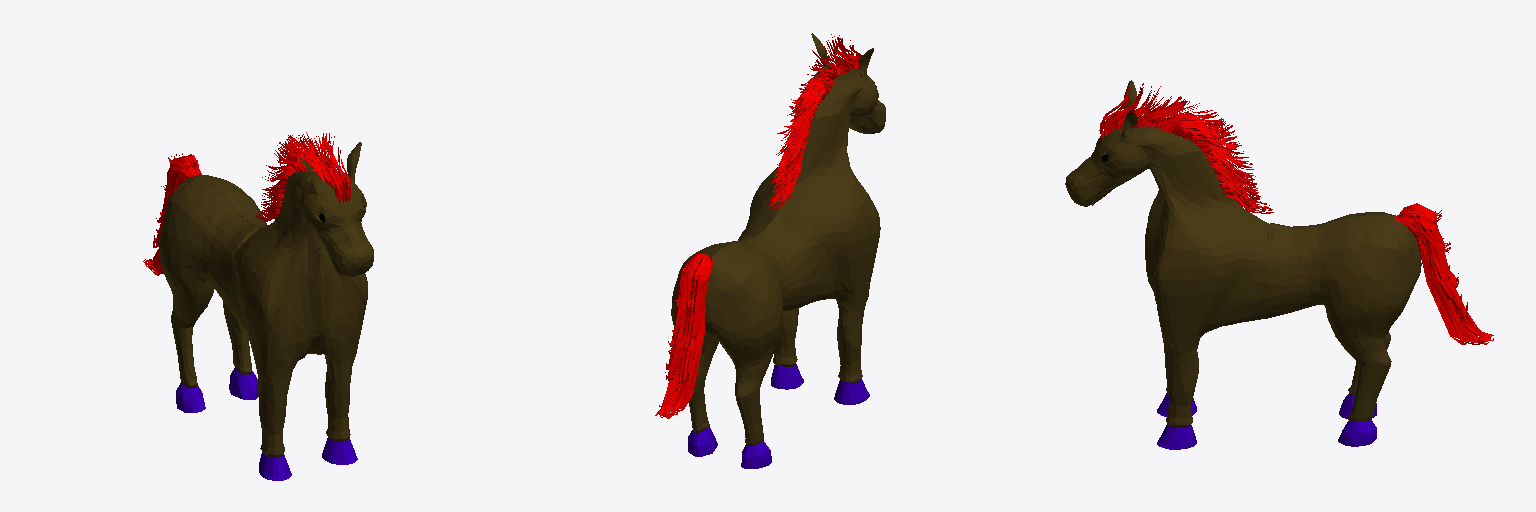
Rendered from horse_rainbow.obj.
3 renders of one model, left to right at view 1: azimuth 30°, elevation 25°; view 2: azimuth 150°, elevation 25°; view 3: azimuth 270°, elevation 25°, orthographic.
Parts seen in each view (by area): view 1: Body_Cube.002, Hair_Mesh.004, Hooves_Cube.000; view 2: Body_Cube.002, Hair_Mesh.004, Hooves_Cube.000; view 3: Body_Cube.002, Hair_Mesh.004, Hooves_Cube.000.
Boxes of the visible parts, <box> form: Body_Cube.002: <box>159,142,373,457</box>; Hair_Mesh.004: <box>143,132,350,275</box>; Hooves_Cube.000: <box>176,368,357,480</box>; Body_Cube.002: <box>671,33,885,445</box>; Hair_Mesh.004: <box>655,34,862,418</box>; Hooves_Cube.000: <box>688,364,869,468</box>; Body_Cube.002: <box>1065,80,1421,427</box>; Hair_Mesh.004: <box>1099,83,1493,344</box>; Hooves_Cube.000: <box>1157,393,1376,449</box>.
Size of the model in its own units: 1.49 by 4.5 by 5.1.